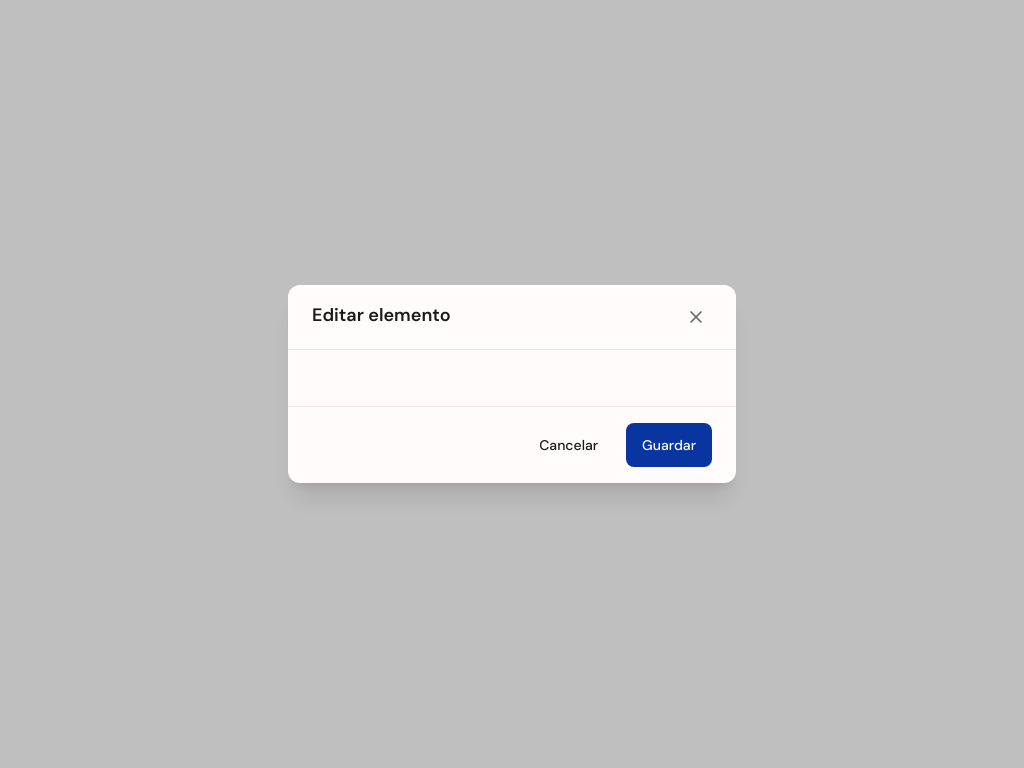
Test: EditModal › close behavior › continues editing when cancel exit is clicked
This screenshot has width=1024, height=768.
# Click cancel to trigger confirmation
Step 1. Click the button "Cancelar" → click(569, 445), box 523,423 -> 614,467
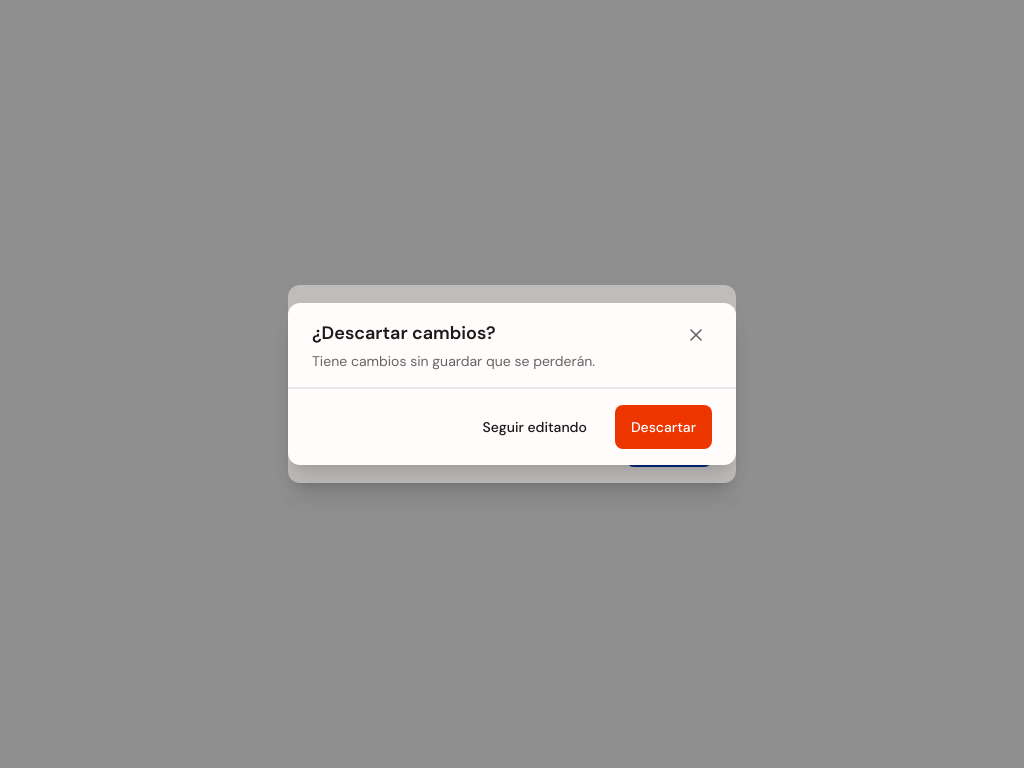
# Click continue editing
Step 2. Click the button "Seguir editando" → click(535, 427), box 466,405 -> 603,449
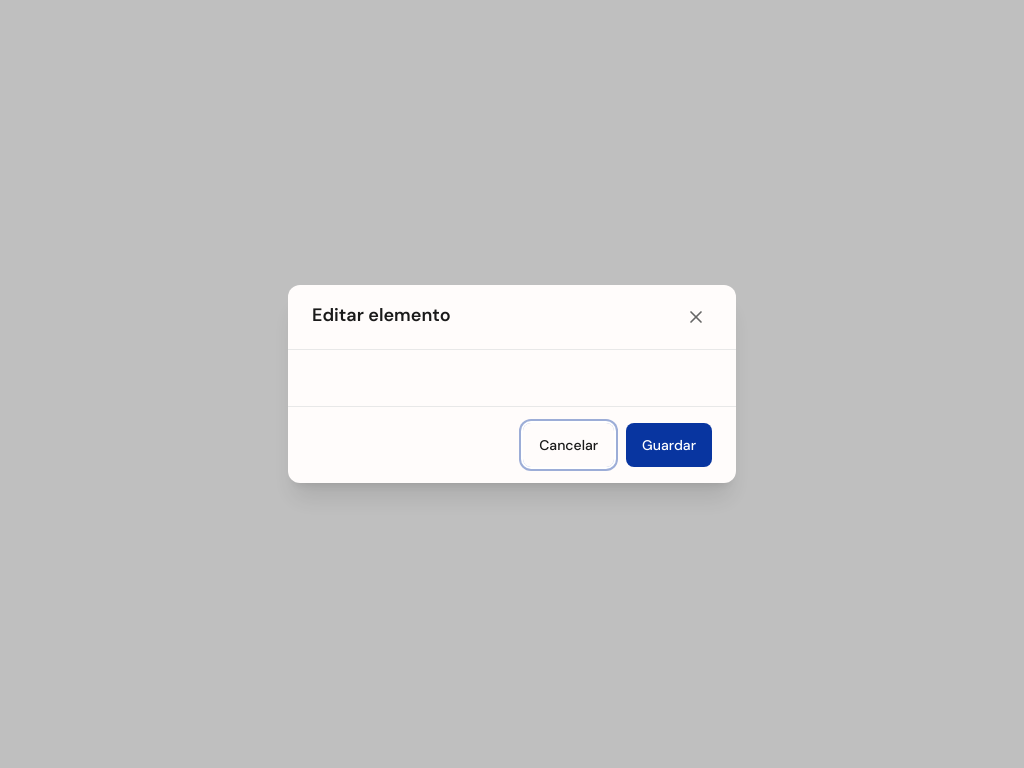
Check: the heading "¿Descartar cambios?" is gone
